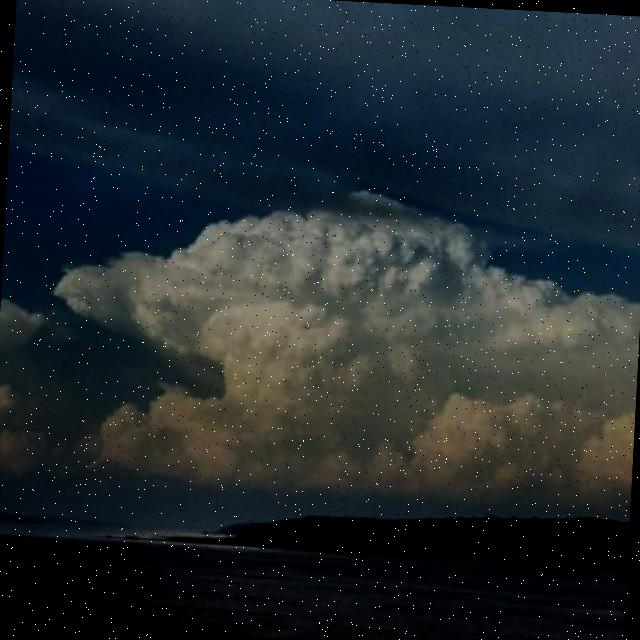As: (17, 159, 640, 506)
